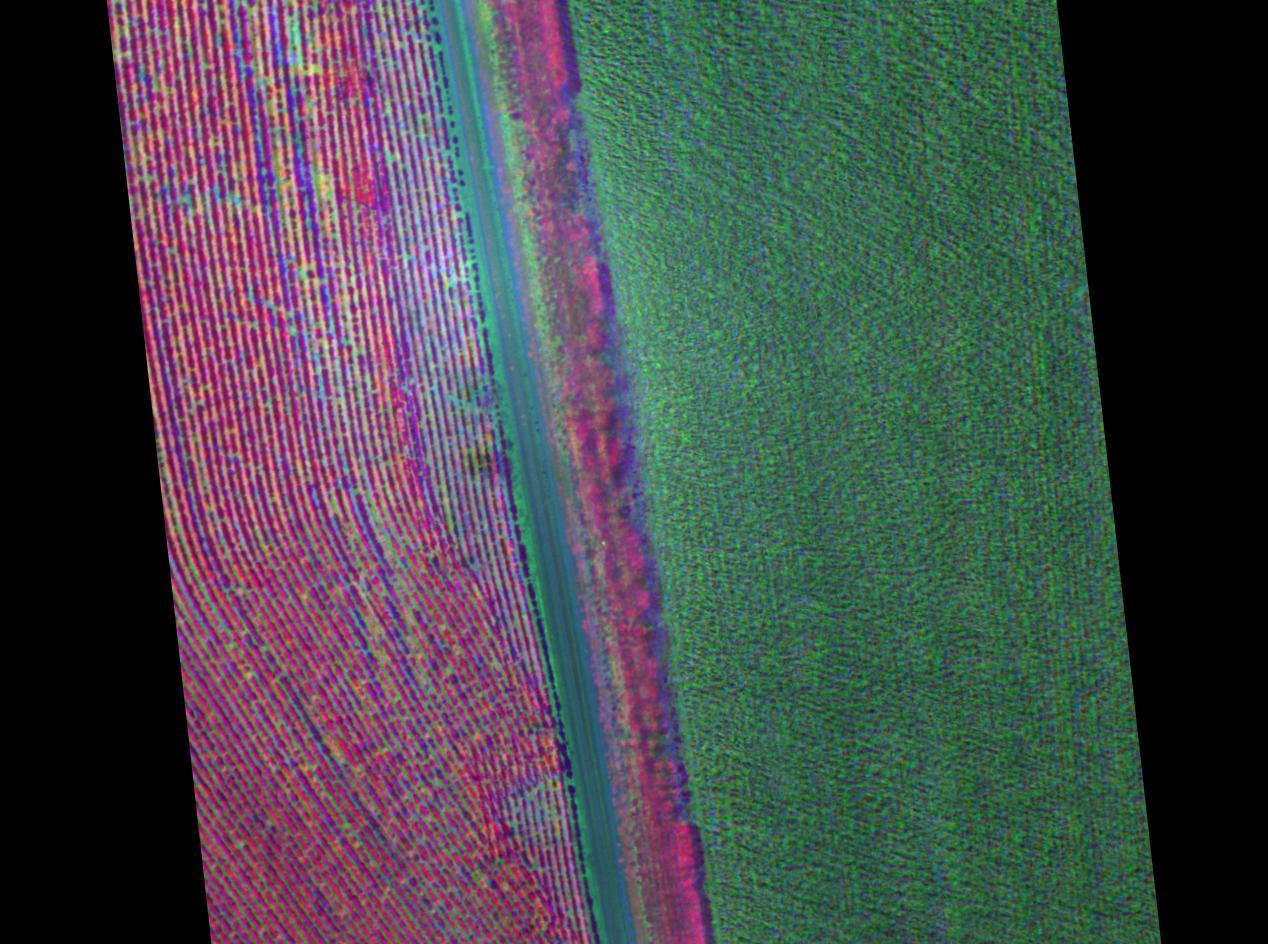dc: (228, 192, 237, 203), (310, 64, 320, 73), (474, 871, 483, 880), (329, 503, 336, 513), (315, 176, 323, 184), (445, 668, 453, 675)
